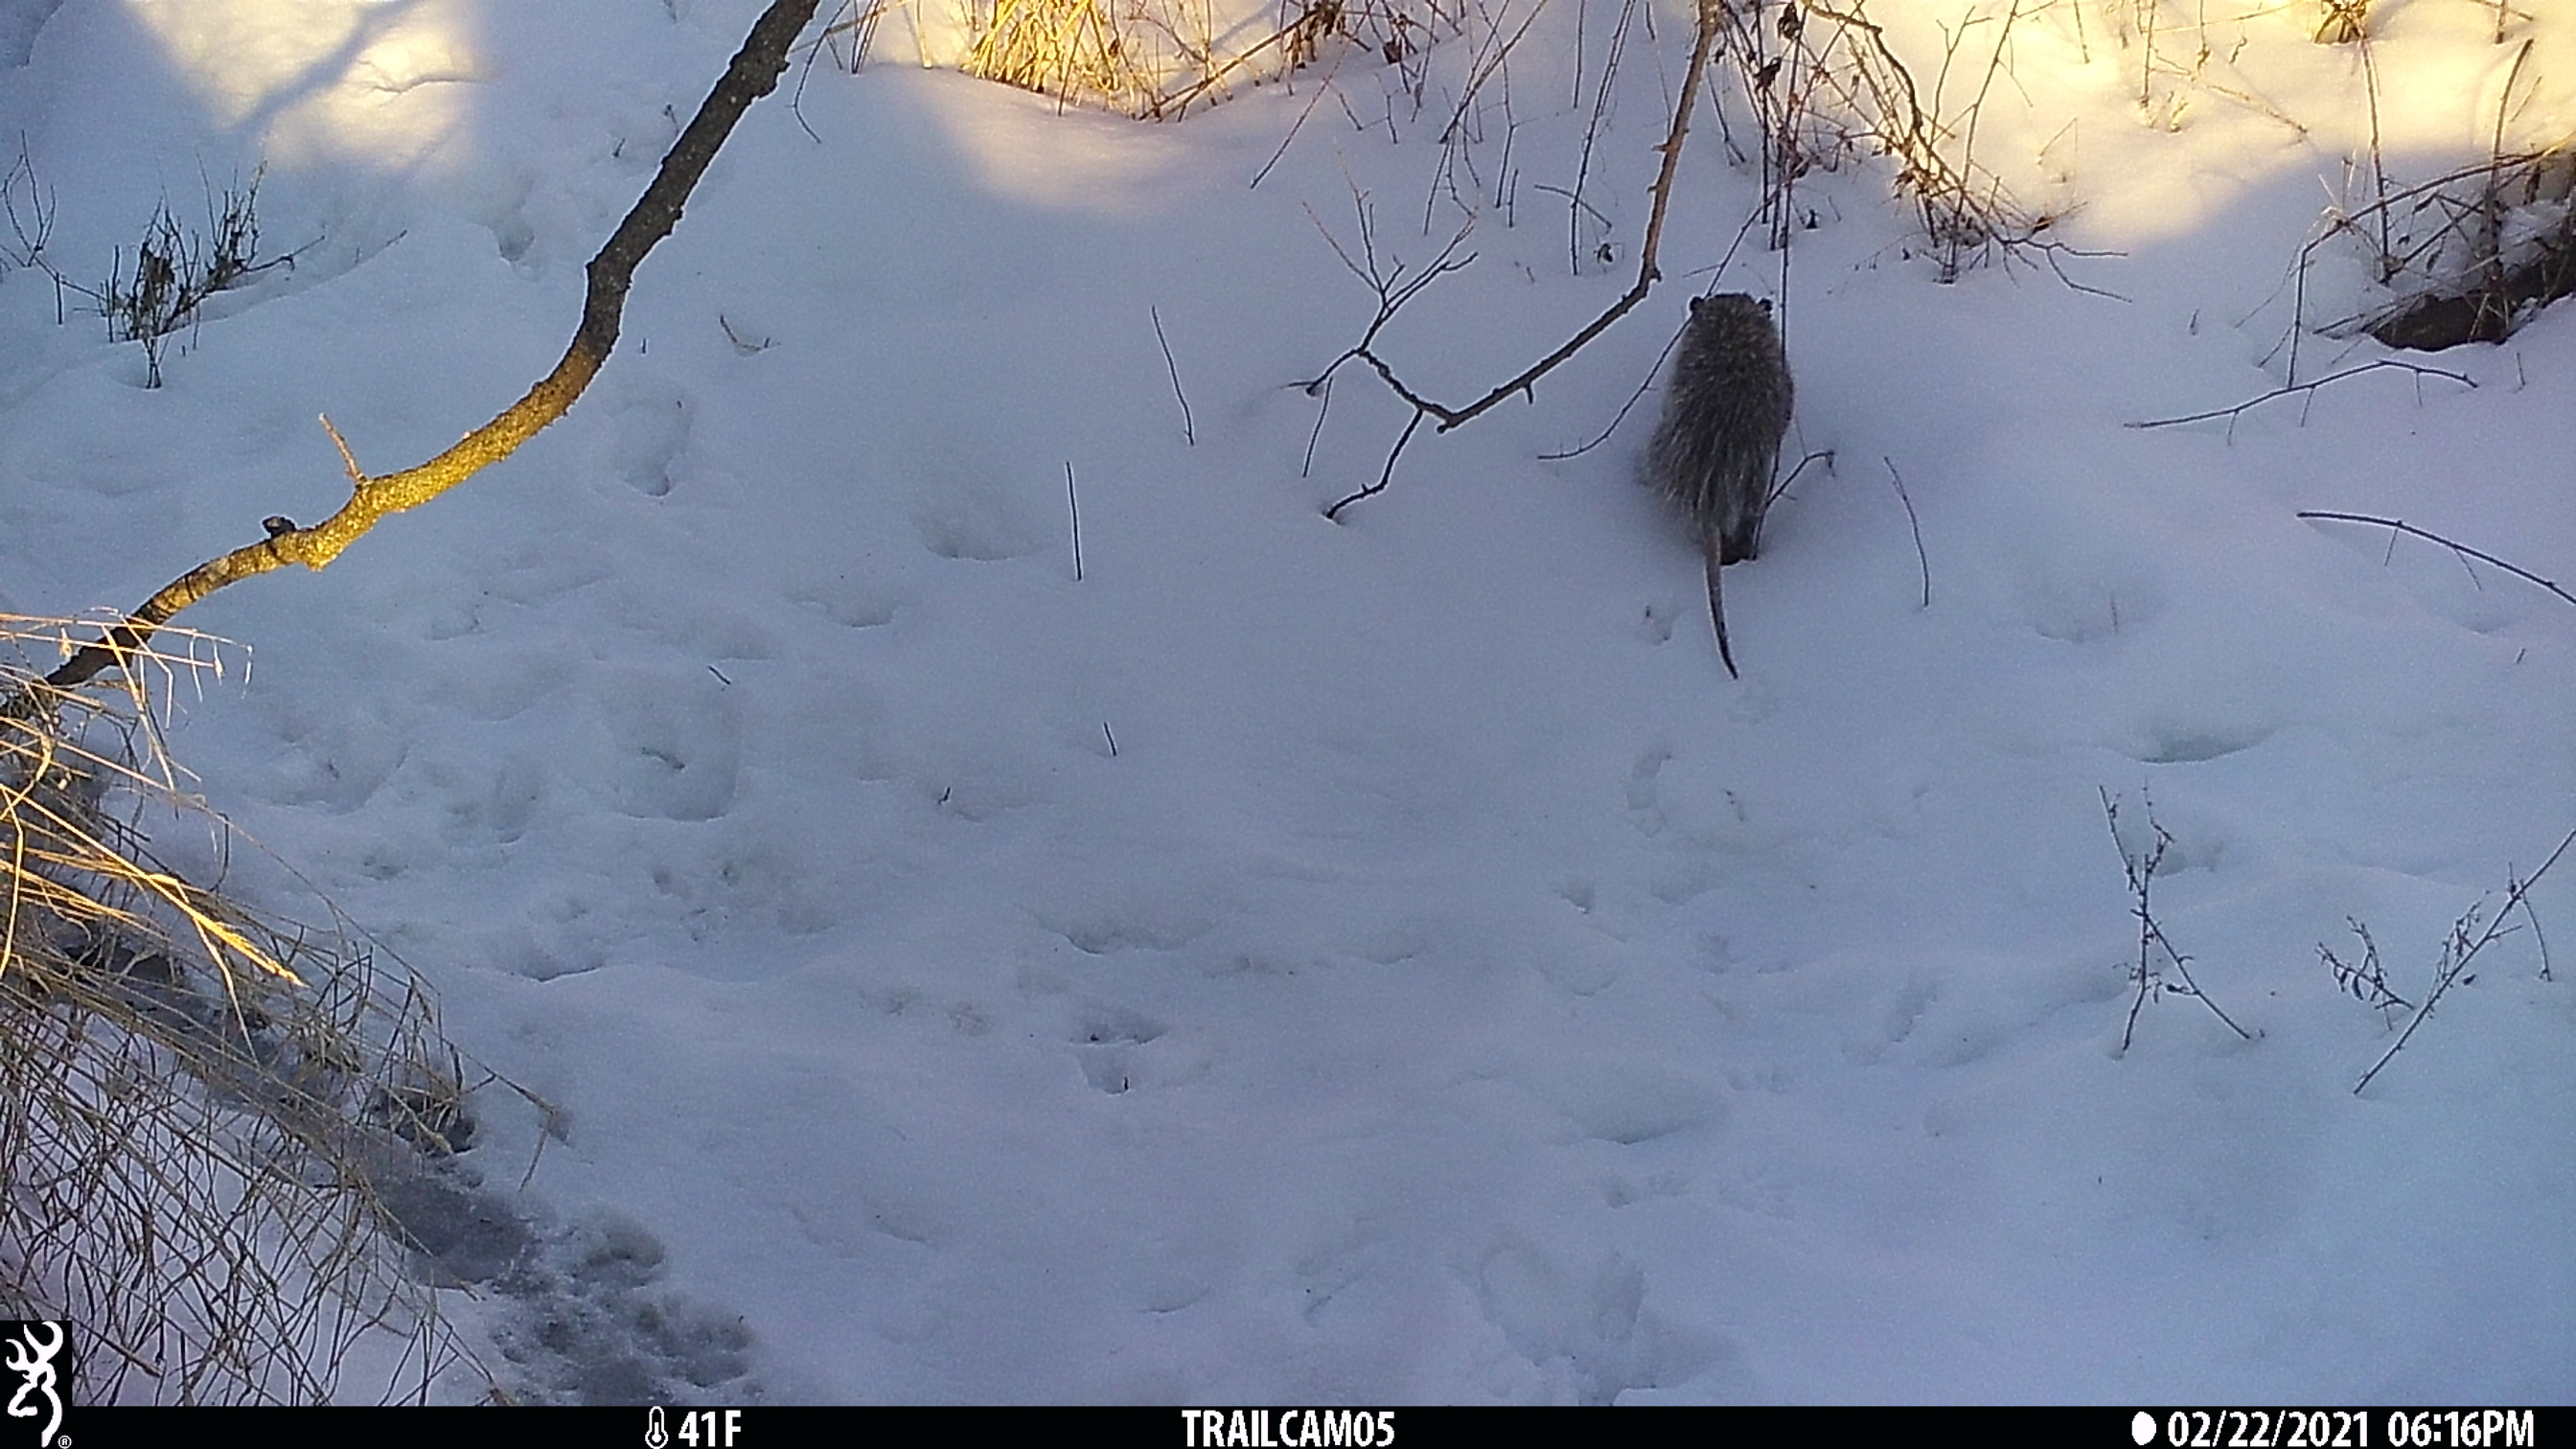Possum: (1645, 290, 1803, 679)
